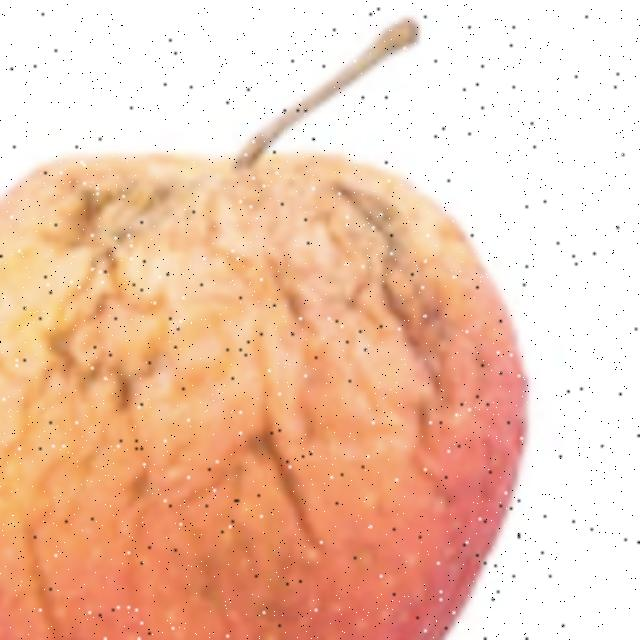Apel Tidak Segar: (0, 150, 539, 640)
